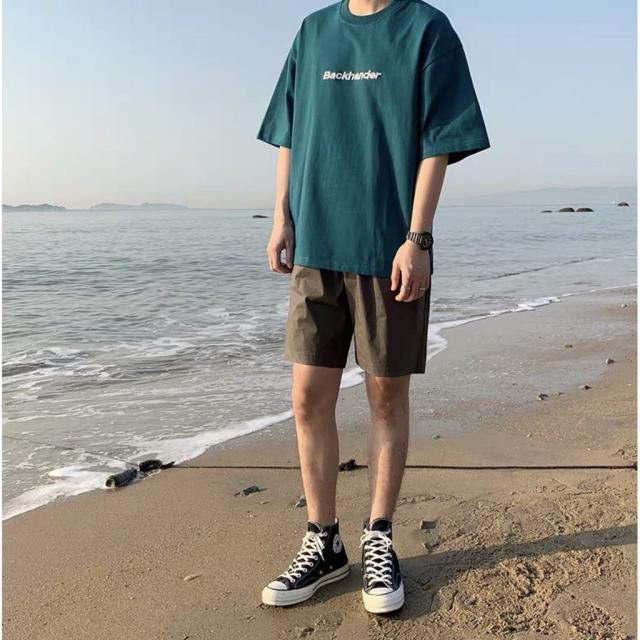Shirt: (252, 0, 492, 274)
